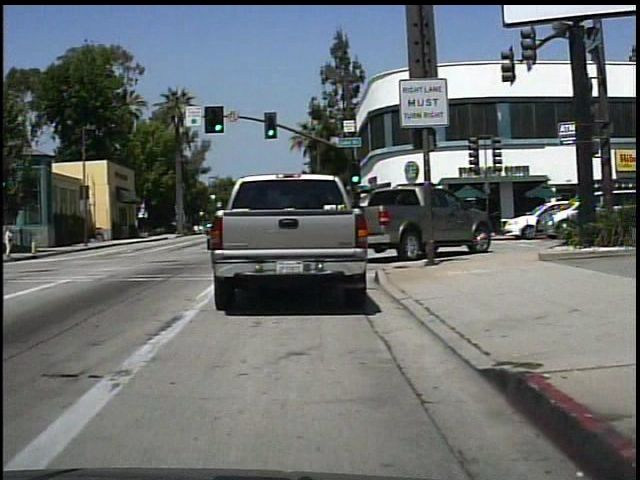person: (466, 201, 483, 239), (3, 225, 18, 261)
